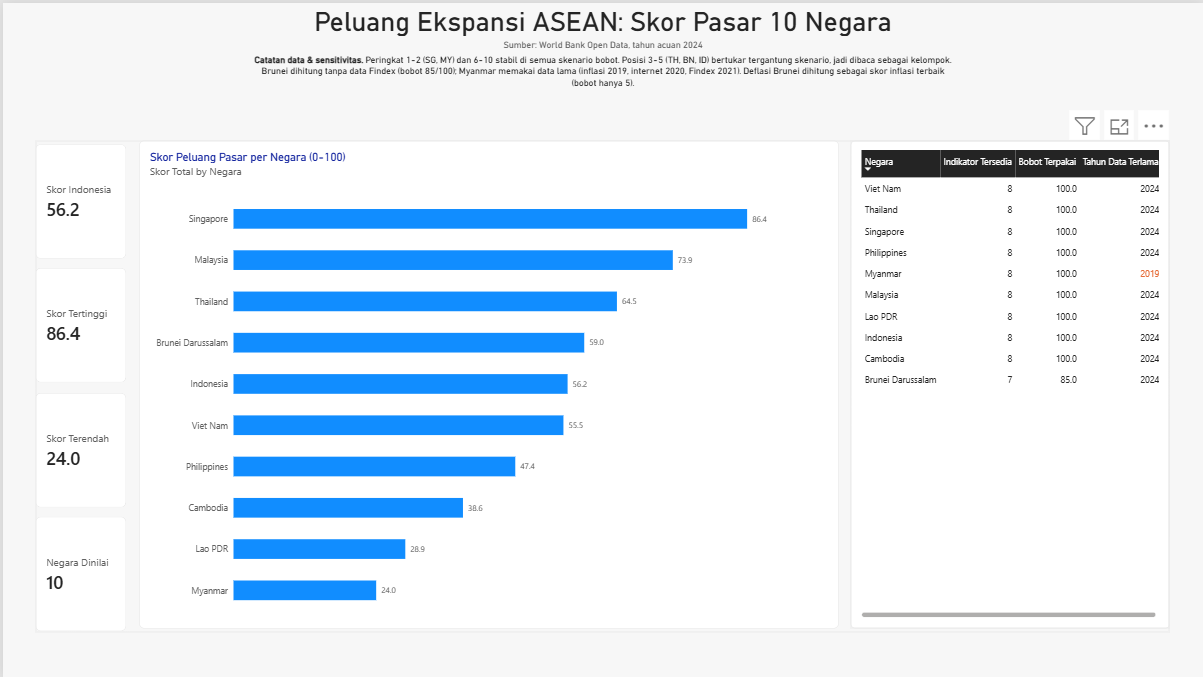

The dashboard page shown, as its layout file describes it:
{"tool":"powerbi","page":{"name":"1. Ringkasan","canvas":[1920,1080],"ordinal":0},"visuals":[{"type":"textbox","box":[0,4.8,1920,52],"z":0},{"type":"textbox","box":[0,55.8,1920,24],"z":1000},{"type":"cardVisual","fields":{"Data":["skor_negara.Skor Indonesia"]},"box":[52,226.2,146,183.7],"z":1000,"group":"g1"},{"type":"textbox","box":[398,80.8,1124,84],"z":2000},{"type":"cardVisual","fields":{"Data":["skor_negara.Skor Terendah"]},"box":[52,624.1,146,183.7],"z":2000,"group":"g1"},{"type":"group","id":"g1","title":"Group 1","box":[52,220.8,1814,786],"z":3000},{"type":"cardVisual","fields":{"Data":["skor_negara.Skor Tertinggi"]},"box":[52,425.1,146,183.7],"z":3000,"group":"g1"},{"type":"barChart","title":"Skor Peluang Pasar per Negara (0-100)","fields":{"Category":["skor_negara.negara_nama"],"Y":["Sum(skor_negara.skor_total)"]},"box":[218.9,220.8,1119.2,780.6],"z":4000,"group":"g1"},{"type":"tableEx","title":"Kualitas Data per Negara","fields":{"Values":["skor_negara.negara_nama","negara_indikator.indikator_tersedia","skor_negara.bobot_terpakai","skor_negara.tahun_data_terlama"]},"box":[1355.1,220.8,510.9,780.6],"z":5000,"group":"g1"},{"type":"cardVisual","fields":{"Data":["skor_negara.Negara Dinilai"]},"box":[52,823.1,146,183.7],"z":7000,"group":"g1"}]}

Visuals, with their boxes in screenshot pixels (x1, y1, x2, y2), scaled from the page's 1920x1080 canvas onto the 1203x677 screenshot:
textbox: <box>0,3,1202,36</box>
textbox: <box>0,35,1202,50</box>
cardVisual - skor_negara.Skor Indonesia: <box>33,142,124,257</box>
textbox: <box>249,51,954,103</box>
cardVisual - skor_negara.Skor Terendah: <box>33,391,124,506</box>
"Group 1" group: <box>33,138,1169,631</box>
cardVisual - skor_negara.Skor Tertinggi: <box>33,266,124,382</box>
"Skor Peluang Pasar per Negara (0-100)" barChart: <box>137,138,838,628</box>
"Kualitas Data per Negara" tableEx: <box>849,138,1169,628</box>
cardVisual - skor_negara.Negara Dinilai: <box>33,516,124,631</box>
